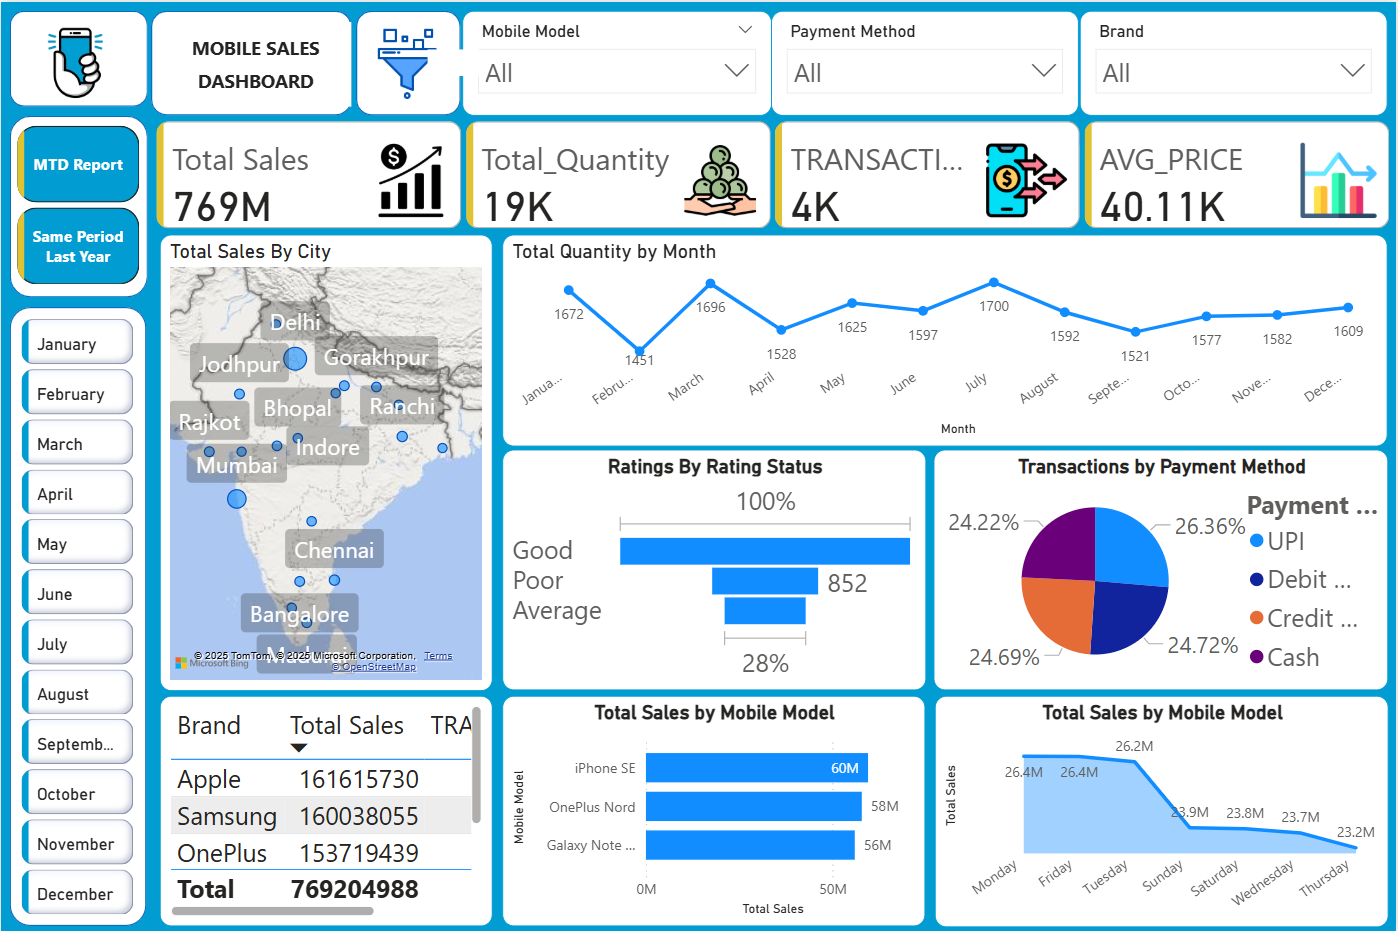

This screenshot's page, from the dashboard's own definition file:
{"tool":"powerbi","page":{"name":"DASHBOARD","canvas":[1200,800],"ordinal":0},"visuals":[{"type":"shape","box":[7.5,7.5,118.8,82.5],"z":0},{"type":"image","box":[13.8,7.5,100,90],"z":1000},{"type":"shape","box":[7.5,97.5,118.8,156.2],"z":2000},{"type":"shape","box":[7.5,262.5,117.5,532.5],"z":3000},{"type":"advancedSlicerVisual","fields":{"Values":["Custom_Calender.Date.Variation.Date Hierarchy.Month"]},"box":[12.5,267.5,106.2,532.5],"z":4000},{"type":"cardVisual","fields":{"Data":["_sales_data.TOTAL_SALES","_sales_data.Total_Quantity","_sales_data.TRANSACTIONS","_sales_data.AVG_PRICE"]},"box":[128.8,97.5,1071.2,102.5],"z":5000},{"type":"slicer","fields":{"Values":["_sales_data.Mobile Model"]},"box":[396.2,7.5,266.2,90],"z":6000},{"type":"slicer","fields":{"Values":["_sales_data.Payment Method"]},"box":[662.5,7.5,265,90],"z":7000},{"type":"slicer","fields":{"Values":["_sales_data.Brand"]},"box":[927.5,7.5,265,90],"z":8000},{"type":"shape","box":[305,7.5,90,90],"z":9000},{"type":"image","box":[308.8,17.5,81.2,72.5],"z":10000},{"type":"shape","box":[366.2,28.8,56.2,46.2],"z":11000},{"type":"shape","box":[128.8,7.5,172.5,90],"z":12000},{"type":"textbox","box":[136.2,17.5,165,72.5],"z":13000},{"type":"map","title":"Total Sales By City","fields":{"Category":["_sales_data.City"],"Size":["_sales_data.TOTAL_SALES"]},"box":[136.2,200,286.2,392.5],"z":14000},{"type":"lineChart","title":"Total Quantity by Month","fields":{"Y":["_sales_data.Total_Quantity"],"Category":["Custom_Calender.Date.Variation.Date Hierarchy.Month"]},"box":[431.2,200,761.2,182.5],"z":15000},{"type":"funnel","title":" Ratings By Rating Status","fields":{"Y":["CountNonNull(_sales_data.Customer Ratings)"],"Category":["_sales_data.RATING_STATUS"]},"box":[431.2,385,365,207.5],"z":16000},{"type":"pieChart","title":"Transactions by Payment Method","fields":{"Y":["_sales_data.TRANSACTIONS"],"Category":["_sales_data.Payment Method"]},"box":[802.4,385.4,391.5,207.3],"z":17000},{"type":"clusteredBarChart","title":"Total Sales by Mobile Model","fields":{"Category":["_sales_data.Mobile Model"],"Y":["_sales_data.Total Sales"]},"box":[431.2,596.2,363.8,198.8],"z":18000},{"type":"areaChart","title":"Total Sales by Mobile Model","fields":{"Category":["Custom_Calender.Day Name"],"Y":["_sales_data.Total Sales"]},"box":[803.5,596.5,390.6,198.8],"z":19000},{"type":"tableEx","fields":{"Values":["_sales_data.Brand","_sales_data.Total Sales","_sales_data.TRANSACTIONS"]},"box":[136.2,596.2,286.2,198.8],"z":20000},{"type":"pageNavigator","box":[13.8,106.2,105,137.5],"z":20001}]}

Visuals, with their boxes in screenshot pixels (x1, y1, x2, y2), scaled from the page's 1200x800 canvas onto the 1398x931 screenshot:
shape: [left=9, top=9, right=147, bottom=105]
image: [left=16, top=9, right=133, bottom=113]
shape: [left=9, top=113, right=147, bottom=295]
shape: [left=9, top=305, right=146, bottom=925]
advancedSlicerVisual - Custom_Calender.Date.Variation.Date Hierarchy.Month: [left=15, top=311, right=138, bottom=930]
cardVisual - _sales_data.TOTAL_SALES x _sales_data.Total_Quantity: [left=150, top=113, right=1397, bottom=233]
slicer - _sales_data.Mobile Model: [left=462, top=9, right=772, bottom=113]
slicer - _sales_data.Payment Method: [left=772, top=9, right=1081, bottom=113]
slicer - _sales_data.Brand: [left=1081, top=9, right=1389, bottom=113]
shape: [left=355, top=9, right=460, bottom=113]
image: [left=360, top=20, right=454, bottom=105]
shape: [left=427, top=34, right=492, bottom=87]
shape: [left=150, top=9, right=351, bottom=113]
textbox: [left=159, top=20, right=351, bottom=105]
"Total Sales By City" map: [left=159, top=233, right=492, bottom=690]
"Total Quantity by Month" lineChart: [left=502, top=233, right=1389, bottom=445]
" Ratings By Rating Status" funnel: [left=502, top=448, right=928, bottom=690]
"Transactions by Payment Method" pieChart: [left=935, top=449, right=1391, bottom=690]
"Total Sales by Mobile Model" clusteredBarChart: [left=502, top=694, right=926, bottom=925]
"Total Sales by Mobile Model" areaChart: [left=936, top=694, right=1391, bottom=926]
tableEx - _sales_data.Brand x _sales_data.Total Sales: [left=159, top=694, right=492, bottom=925]
pageNavigator: [left=16, top=124, right=138, bottom=284]
